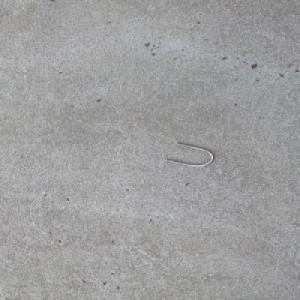ClampPart: (164, 142, 215, 167)
